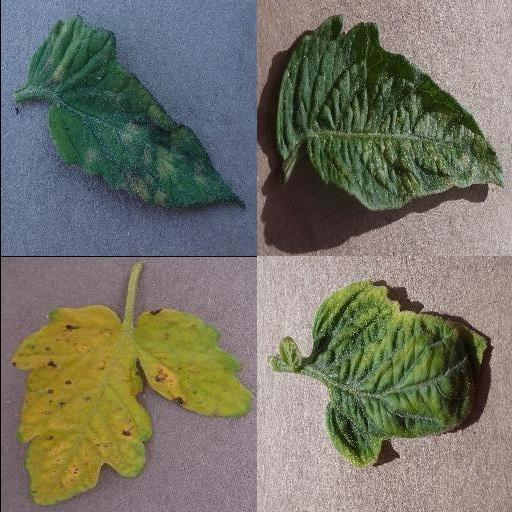Leaf Mold: (25, 13, 247, 211)
Septoria: (10, 303, 250, 507)
Spider Mites: (276, 15, 506, 211)
Yellow Leaf Curl Virus: (309, 285, 487, 467)
